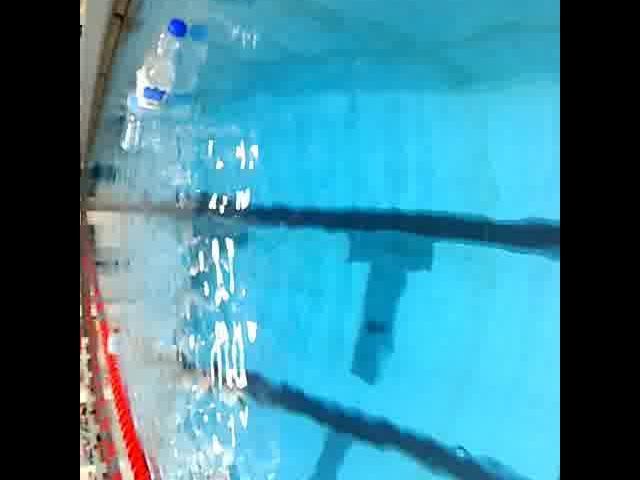Bottle: (132, 14, 190, 116), (114, 80, 150, 156)
